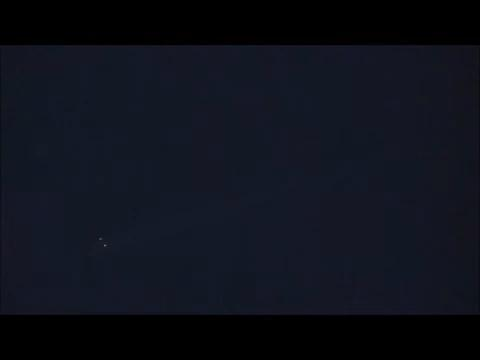Plane: (93, 222, 156, 252)
